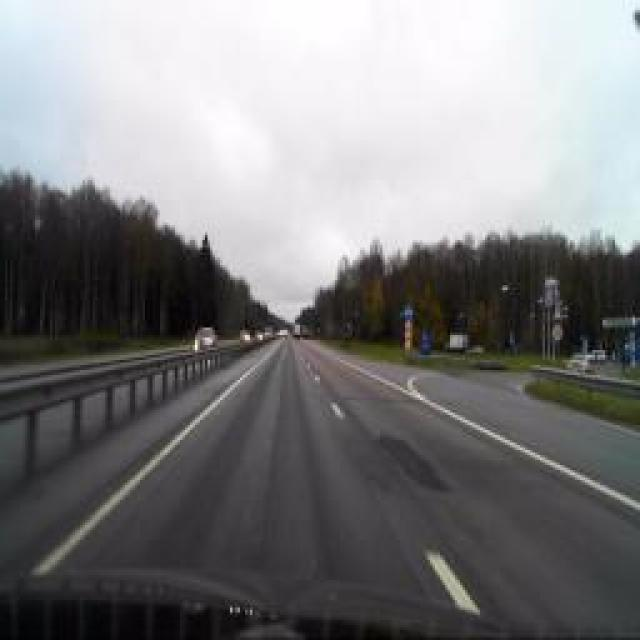sign: (552, 325, 562, 340)
